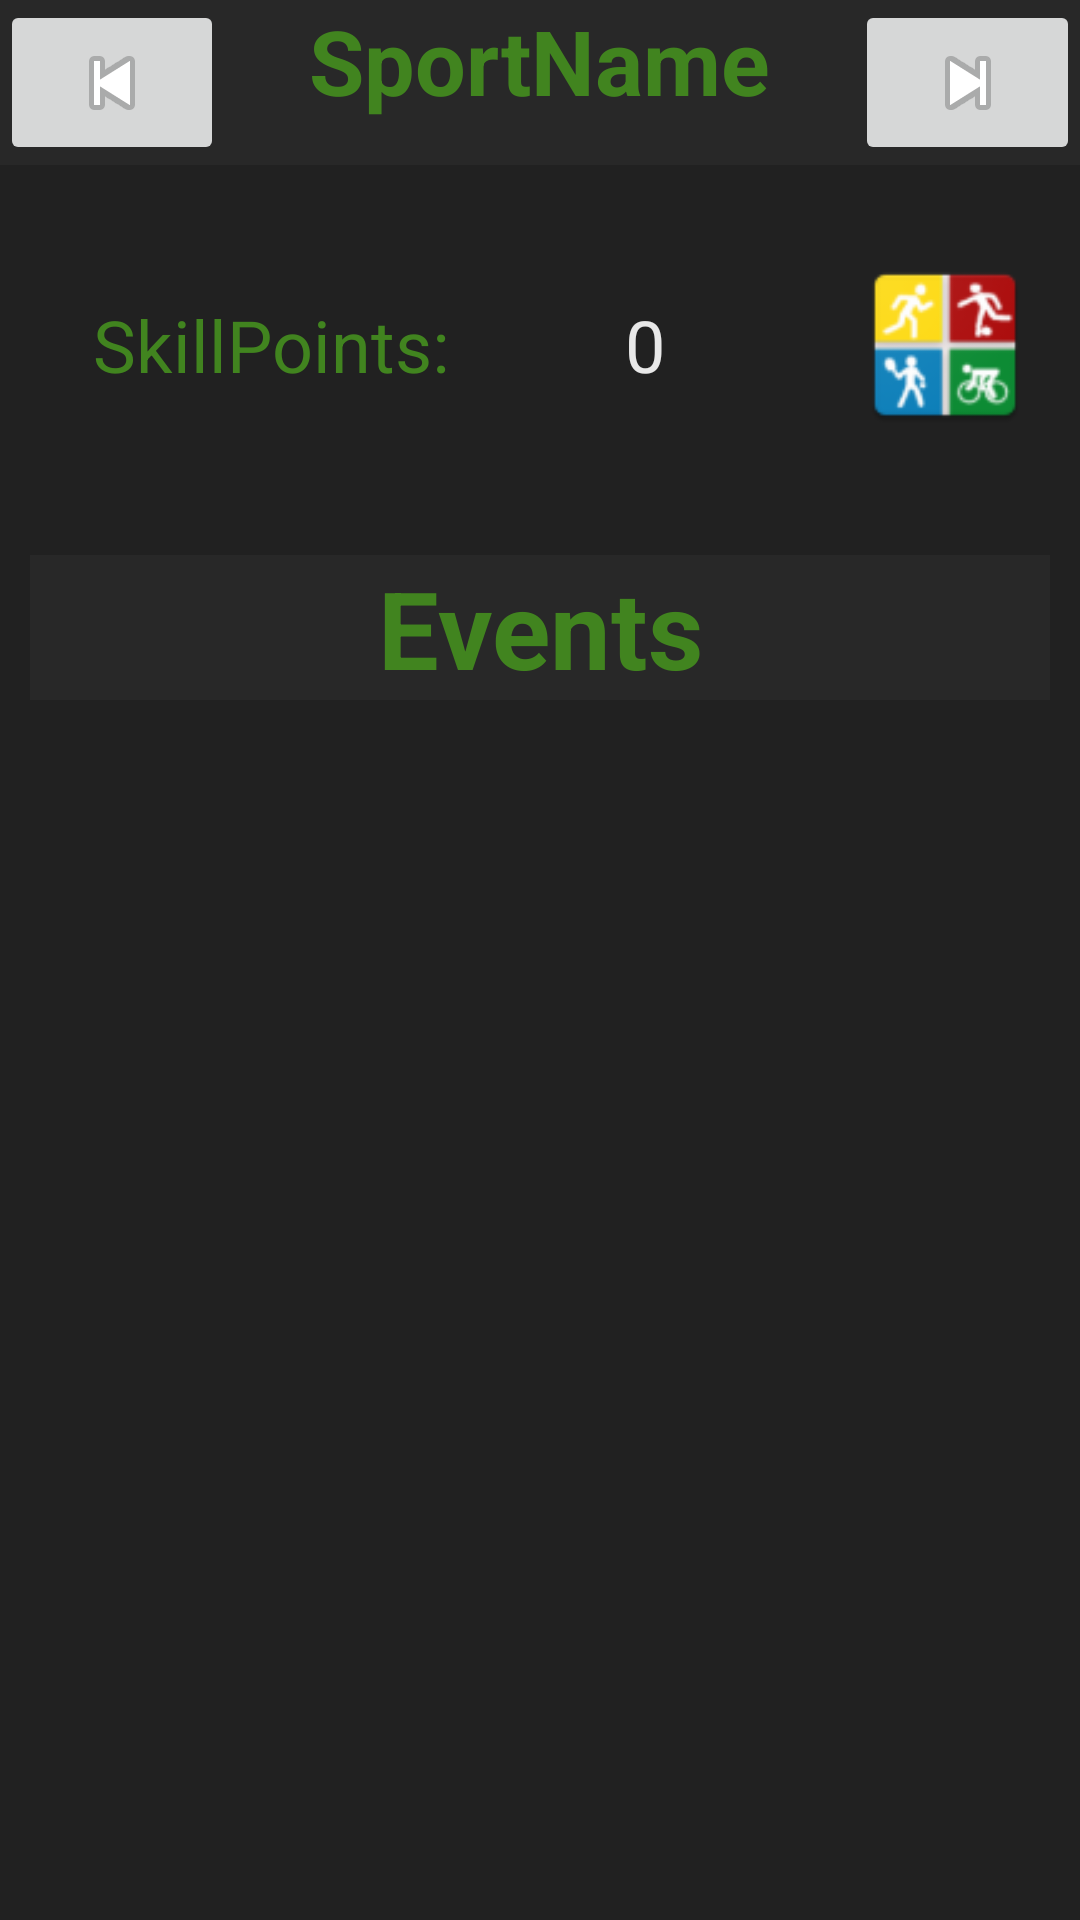

Point at icon controls on the screen. Image size 1080×1920, points as [x,y].
next: [967,82]
previous: [112,82]
